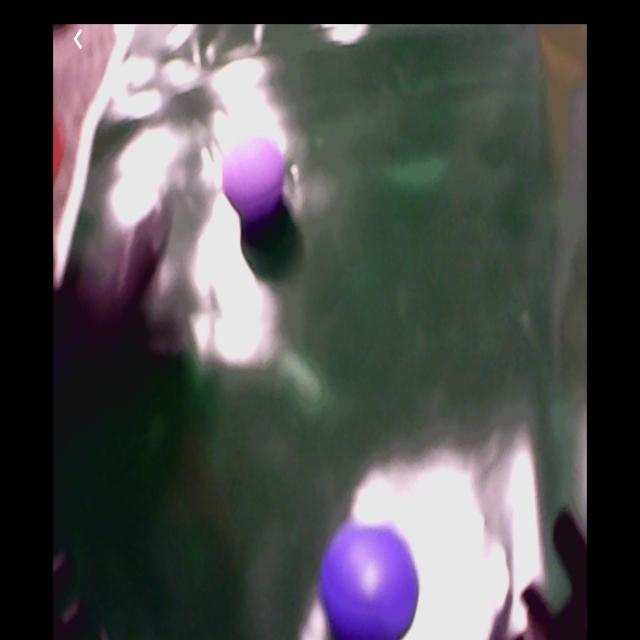ball: (324, 524, 421, 640), (222, 136, 287, 230)
